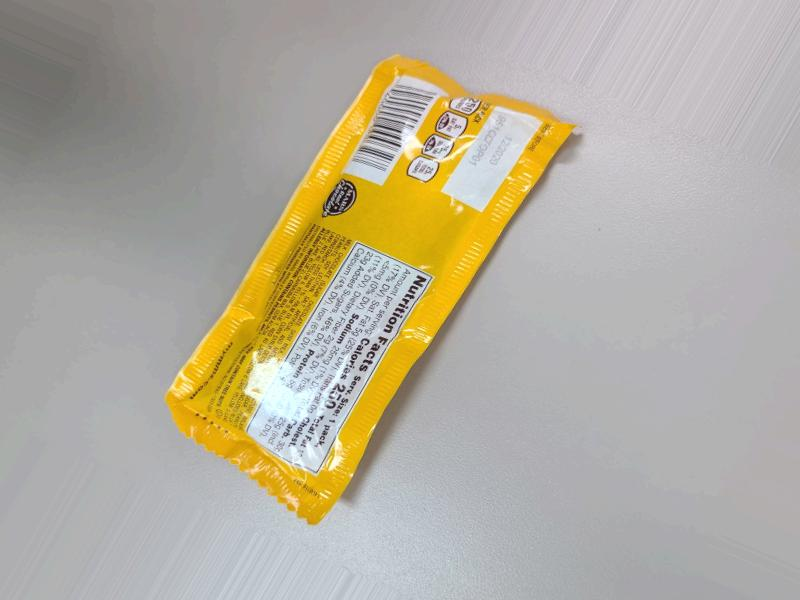m&m: (199, 17, 520, 560)
